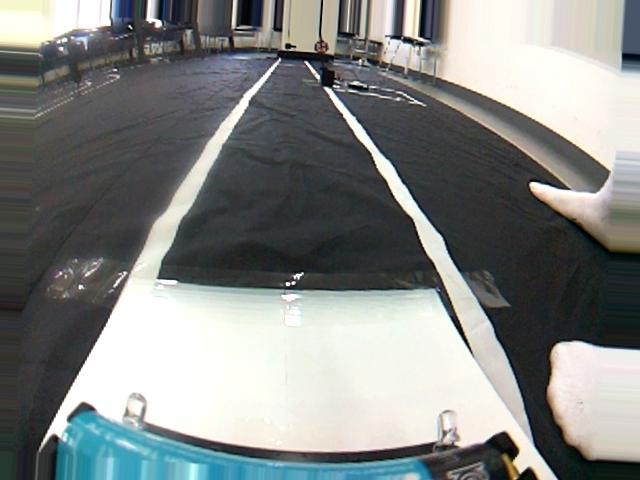hill_down: (4, 105, 636, 480)
sign_stop: (313, 37, 332, 56)
